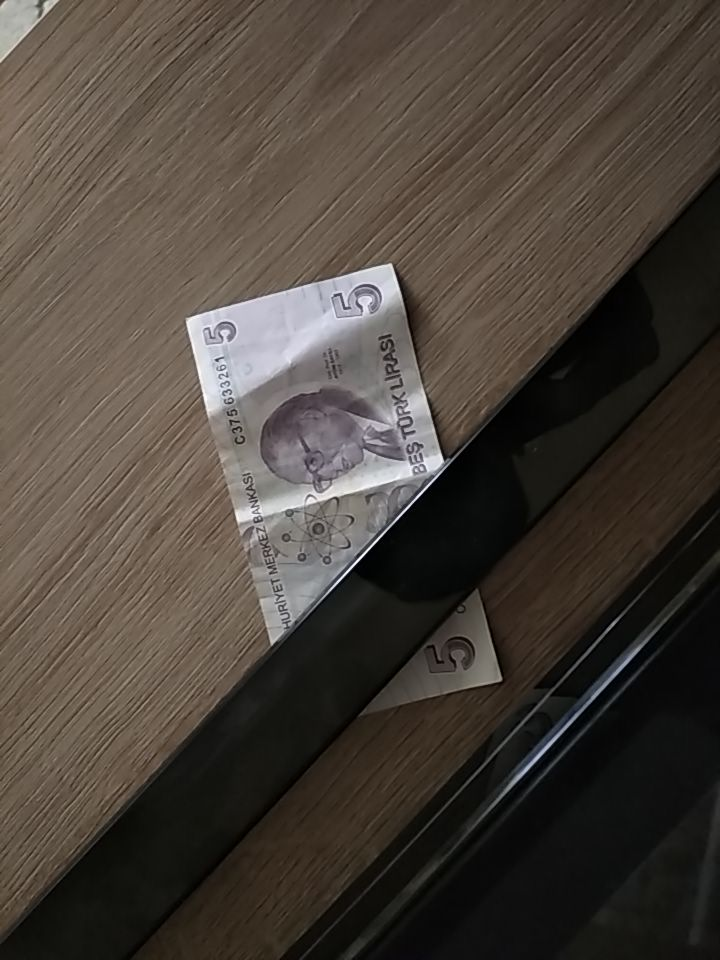5TL: (182, 261, 507, 722)
